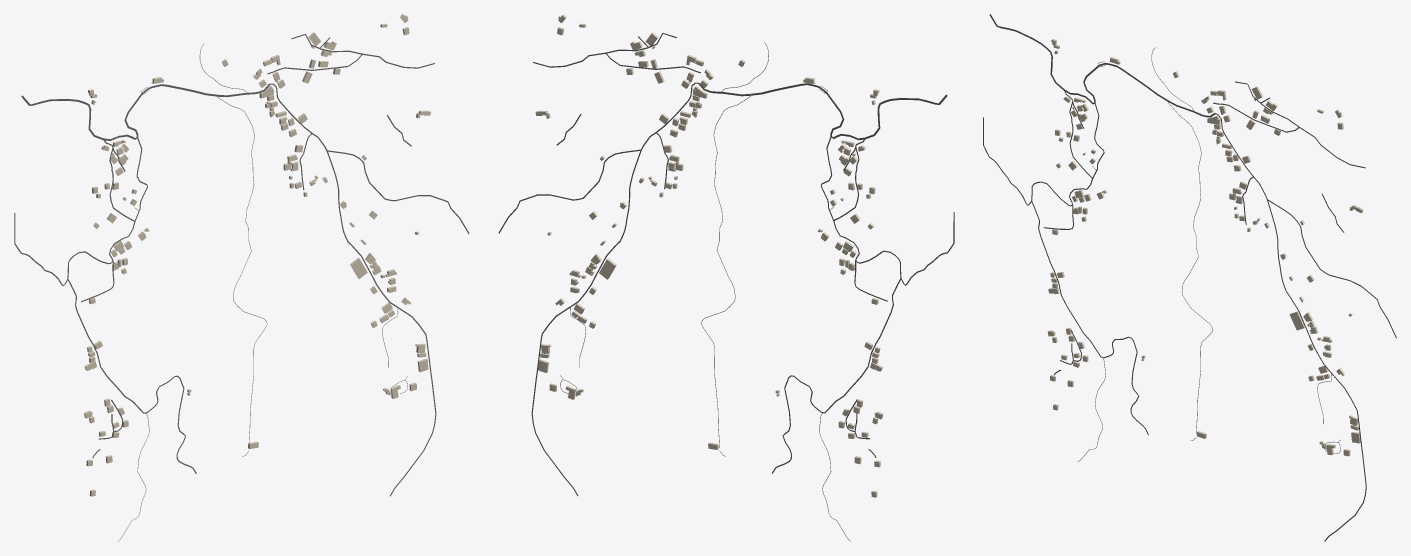
File: historic-palestine-11_23_3526_3173.glb
3 renders of one model, left to right at view 1: azimuth 30°, elevation 25°; view 2: azimuth 150°, elevation 25°; view 3: azimuth 330°, elevation 25°, orthographic. The views are drawn at different scales.
Visible parts, largest first — view 1: Road Alharathan, Road .013, Road; view 2: Road Alharathan, Road .013, Road; view 3: Road Alharathan, Road .013.
Part boxes in pixels (bbox=[...]): Road Alharathan: bbox=[270, 83, 436, 496]; Road .013: bbox=[68, 279, 196, 473]; Road: bbox=[14, 138, 147, 286]; Road Alharathan: bbox=[531, 82, 698, 495]; Road .013: bbox=[772, 278, 900, 473]; Road: bbox=[820, 137, 954, 285]; Road Alharathan: bbox=[1215, 113, 1366, 541]; Road .013: bbox=[1031, 201, 1148, 435].
Bounding box in the file's own units: 1284 × 1343 × 8.7.
